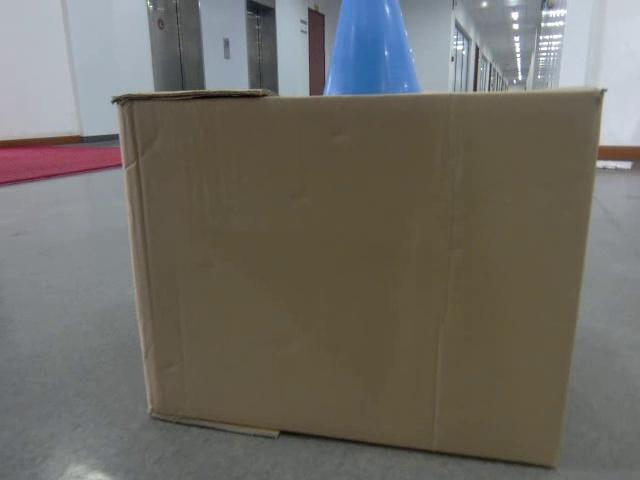blue_barrel: (322, 0, 417, 92)
